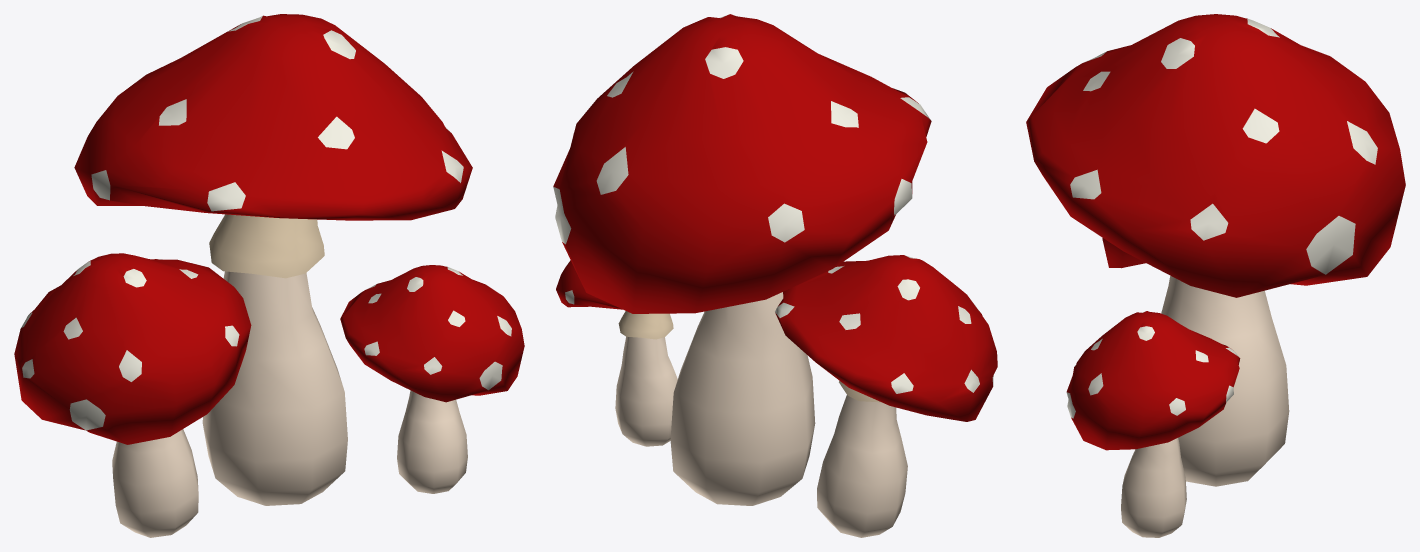
Rendered from Mushroom_03_1.001.fbx.
The picture shows the model from 3 angles, left to right: view 1: azimuth 30°, elevation 25°; view 2: azimuth 150°, elevation 25°; view 3: azimuth 270°, elevation 25°; orthographic projection. The views are drawn at different scales.
Visible parts, largest first — view 1: Mushroom_03_1.001; view 2: Mushroom_03_1.001; view 3: Mushroom_03_1.001.
Part boxes in pixels (bbox=[...]): Mushroom_03_1.001: bbox=[14, 14, 524, 537]; Mushroom_03_1.001: bbox=[553, 14, 997, 537]; Mushroom_03_1.001: bbox=[1026, 14, 1405, 537].
Size of the model in its own units: 39.59 by 29.88 by 39.99.
